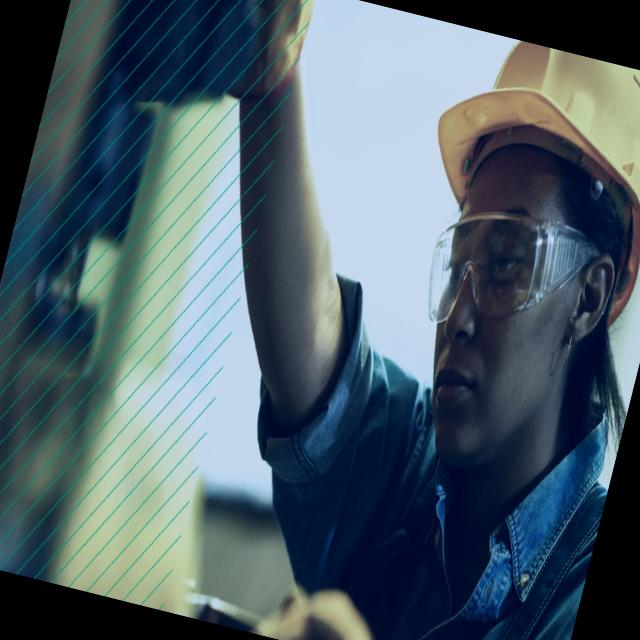goggles: (406, 186, 610, 364)
helmet: (394, 25, 640, 336)
no-vest: (304, 365, 623, 640)
